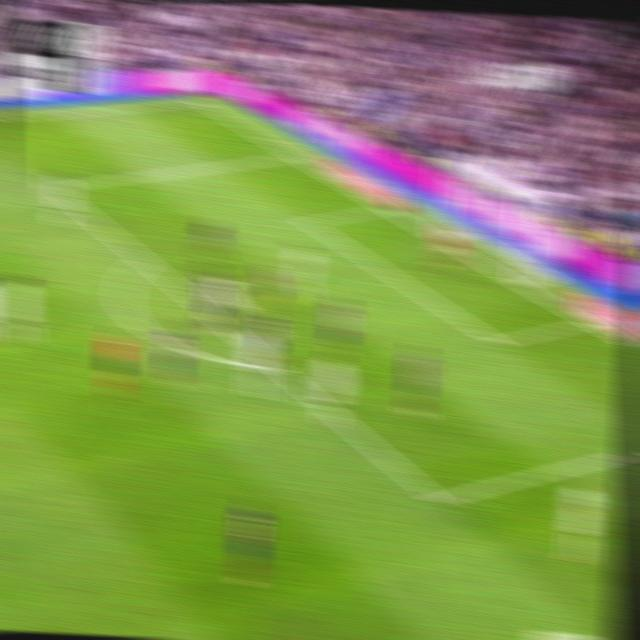bigarea_bottom_inner: (424, 483, 452, 516)
bigarea_top_inner: (42, 175, 65, 196)
bigarea_top_outter: (282, 145, 304, 163)
bottom_arc_area_intersection: (265, 355, 288, 378)
corner: (187, 92, 212, 107)
midline_bottom_intersection: (428, 230, 449, 245)
smallarea_top_inner: (296, 210, 321, 232)
top_arc_area_intersection: (133, 248, 157, 271)
